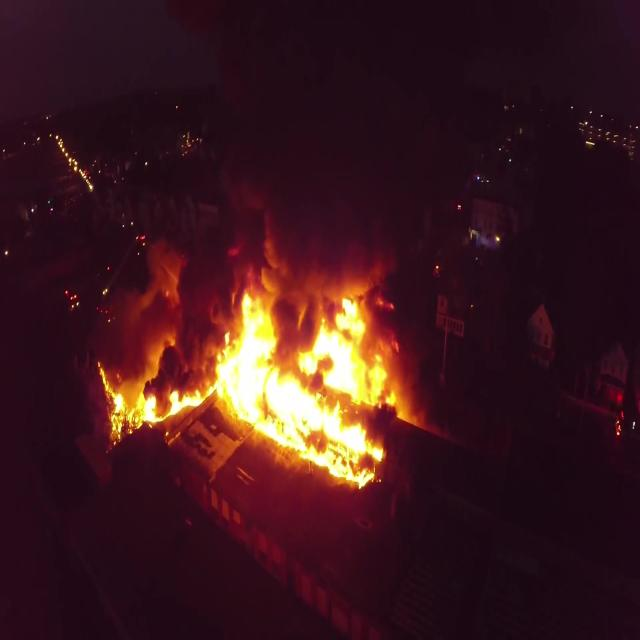fire: (274, 374, 368, 487), (244, 282, 268, 429), (321, 316, 367, 372)
